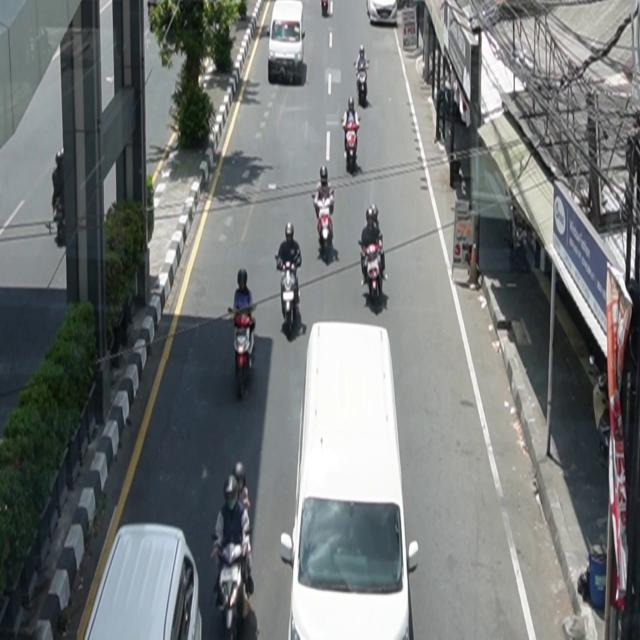car: (281, 322, 420, 640), (78, 523, 204, 640), (268, 1, 306, 85), (367, 1, 398, 26)
